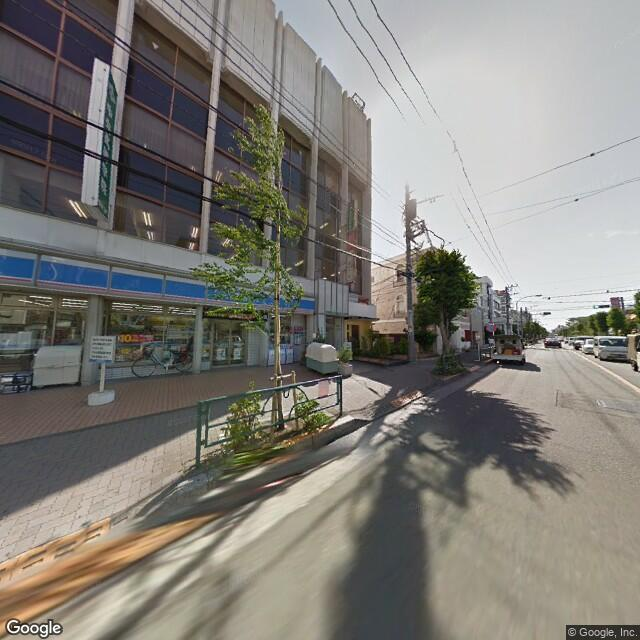lawson: (1, 240, 314, 320)
